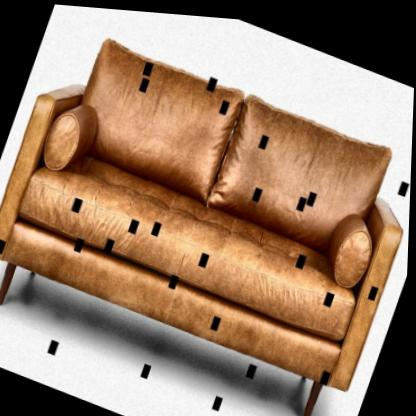Sofa: (0, 16, 416, 386)
